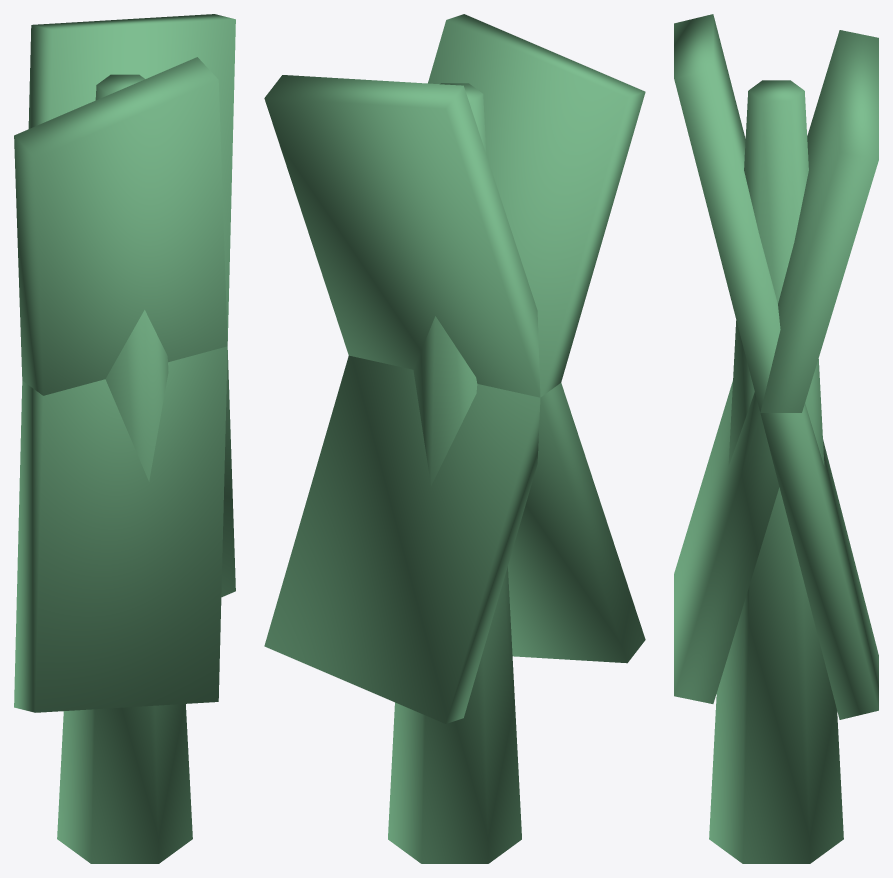
File: SM_AF_Foliage_Fern_LOD1.glb
The picture shows the model from 3 angles, left to right: view 1: azimuth 30°, elevation 25°; view 2: azimuth 150°, elevation 25°; view 3: azimuth 270°, elevation 25°; orthographic projection.
Parts seen in each view (by area): view 1: SM_AF_Foliage_Fern_LOD1; view 2: SM_AF_Foliage_Fern_LOD1; view 3: SM_AF_Foliage_Fern_LOD1.
Part boxes in pixels (<box>): SM_AF_Foliage_Fern_LOD1: <box>14,14,235,863</box>; SM_AF_Foliage_Fern_LOD1: <box>264,14,645,863</box>; SM_AF_Foliage_Fern_LOD1: <box>674,14,878,863</box>.
Size of the model in its own units: 0.2912 by 0.7754 by 0.1823.
